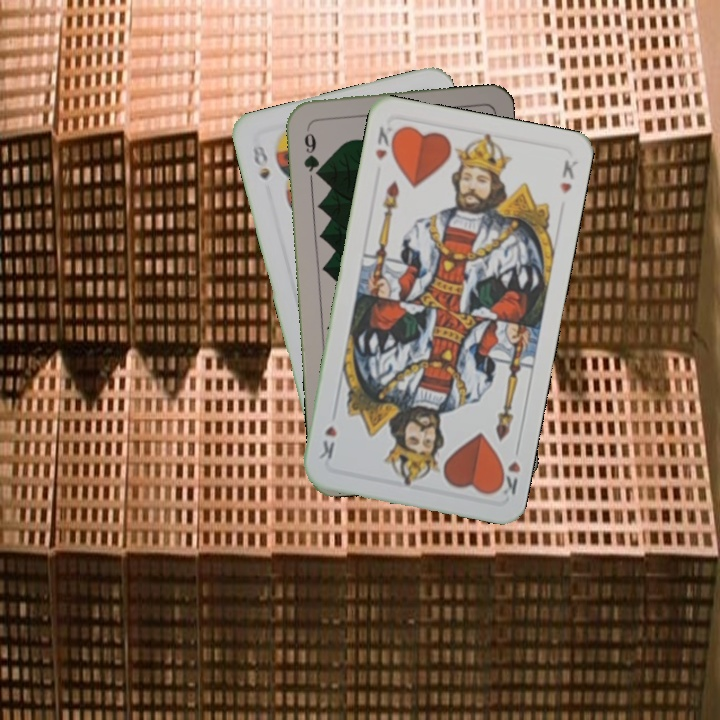G9: (299, 122, 323, 181)
HK: (492, 441, 523, 499), (371, 122, 400, 163)
S8: (248, 141, 273, 183)
